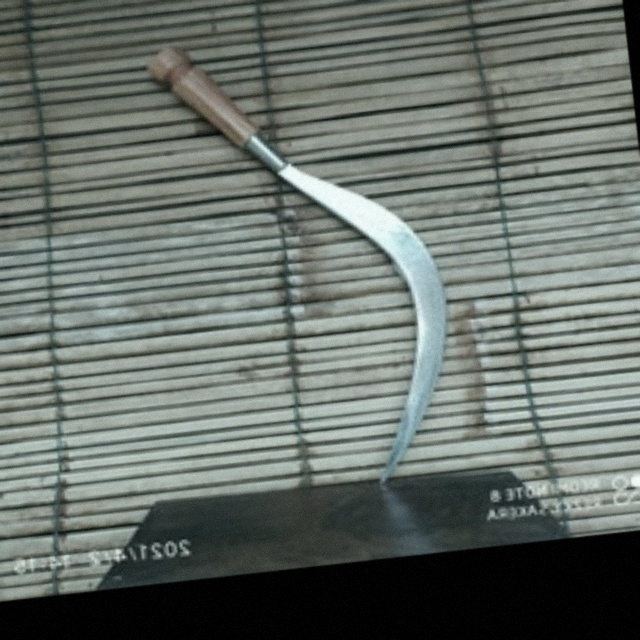Sharp-Object: (140, 7, 476, 507)
